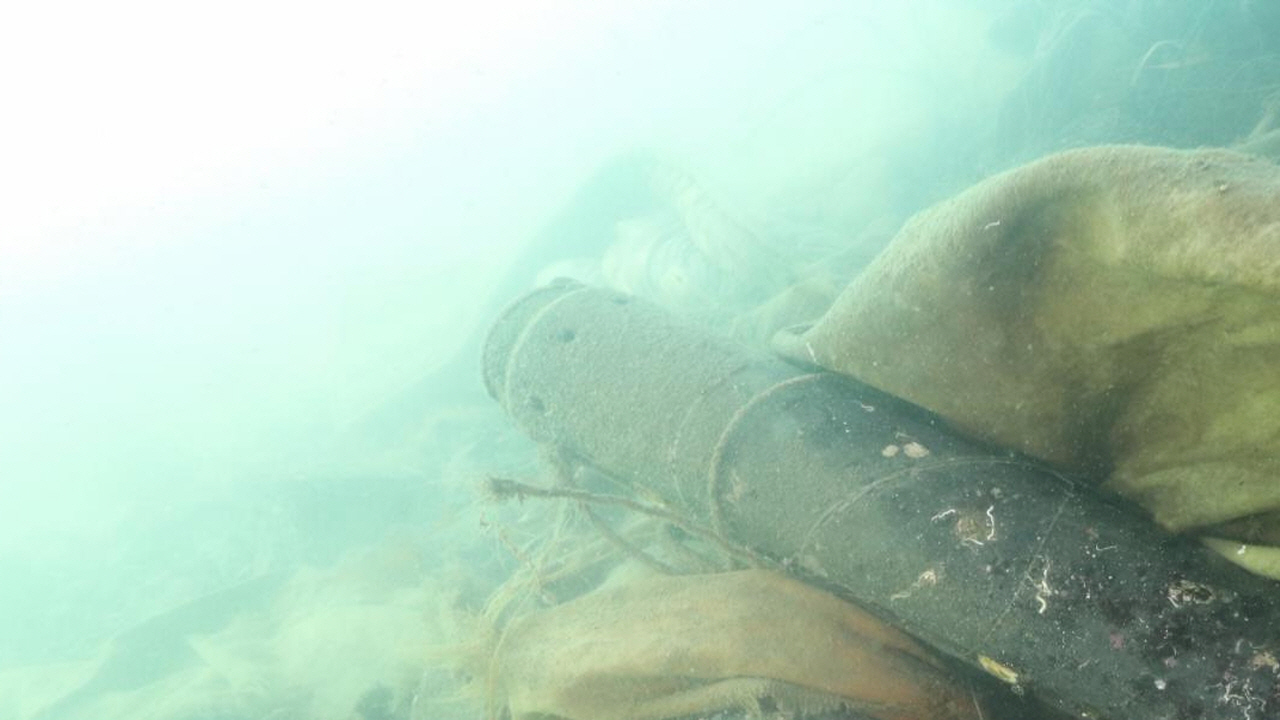bundle of ropes: (514, 370, 830, 570)
eel fish trap: (478, 279, 1280, 720)
